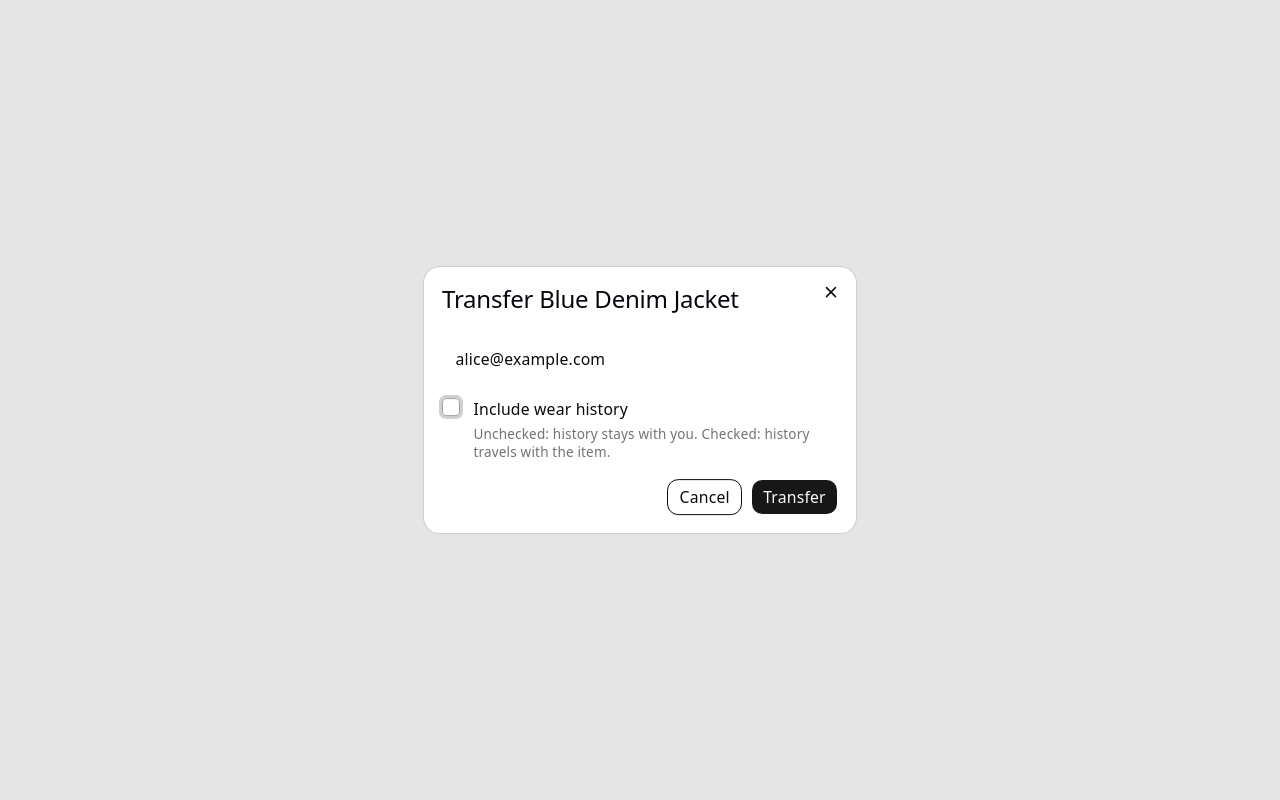
TransferDialog › TransferDialog should surface error inline and keep dialog open and not toast when API returns 409
Step 1. Click the button "alice@example.com" → (530, 359), box [442,339,838,380]
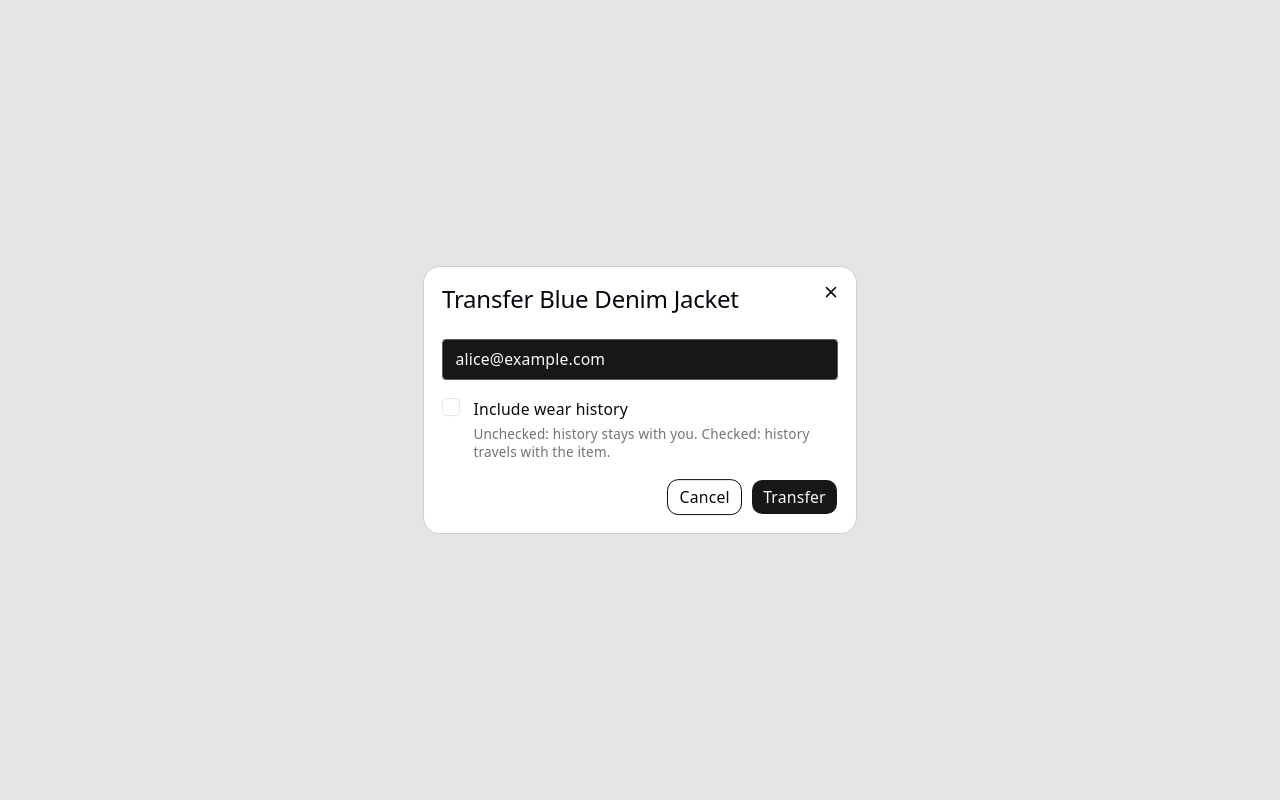
Step 2. Click the button "Transfer" → (794, 497), box [751,479,838,515]
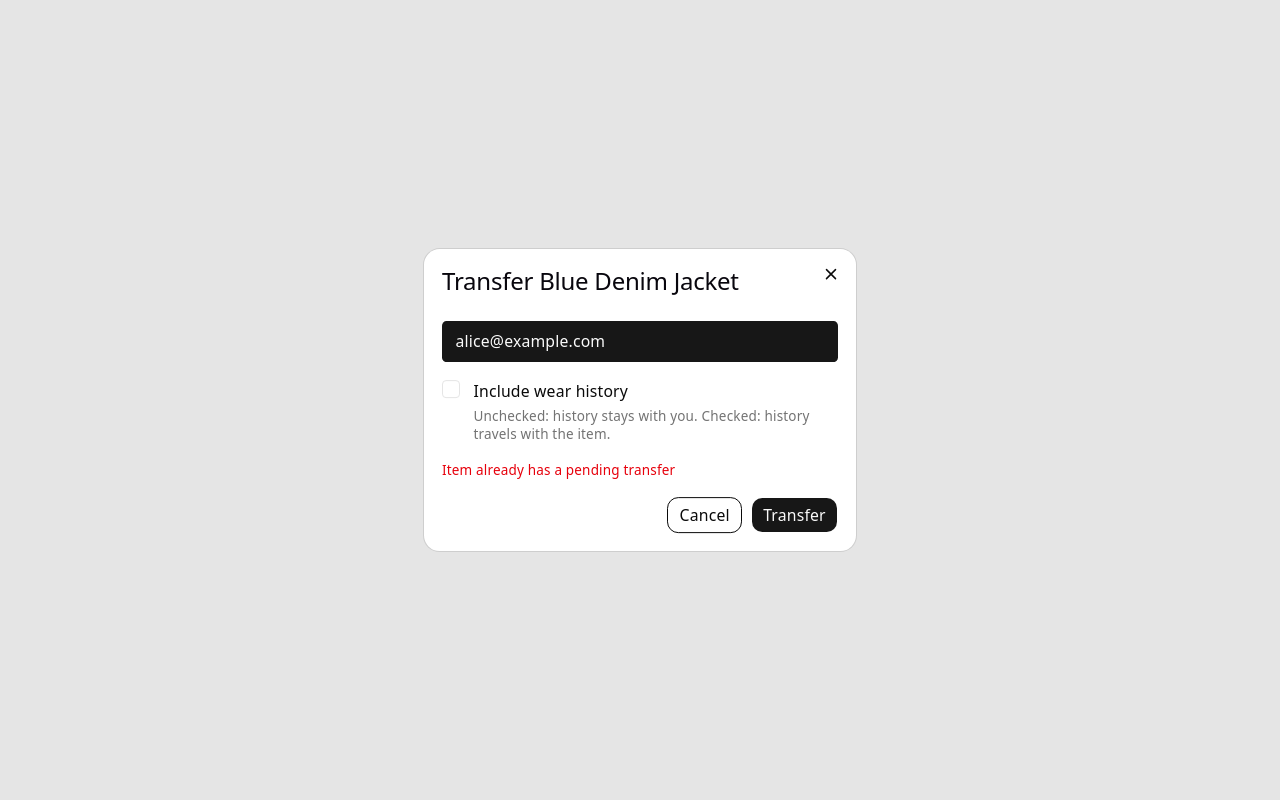
Expected: the dialog is shown, [424,249,856,551]
Expected: the text with test id "transfer-dialog-error" reads "Item already has a pending transfer", [442,461,675,479]
